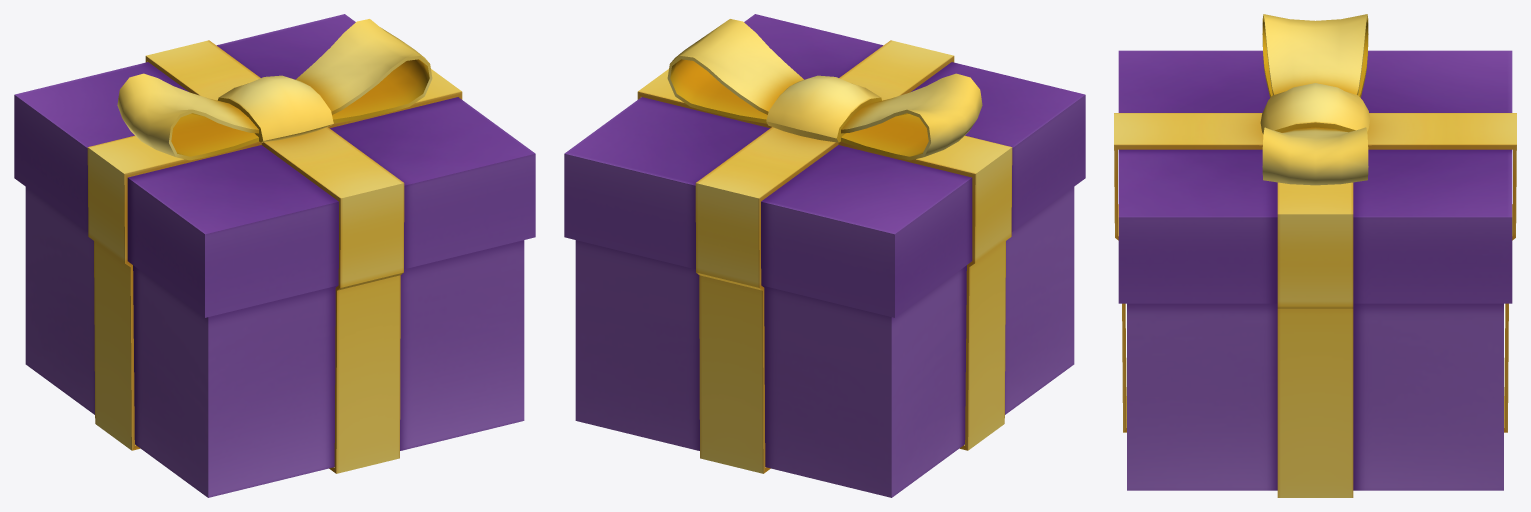
Rendered from ENV2010052.fbx.
The picture shows the model from 3 angles, left to right: view 1: azimuth 30°, elevation 25°; view 2: azimuth 150°, elevation 25°; view 3: azimuth 270°, elevation 25°; orthographic projection. The views are drawn at different scales.
Visible parts, largest first — view 1: smENV2010052; view 2: smENV2010052; view 3: smENV2010052.
Boxes of the visible parts, x1=… form: smENV2010052: x1=14, y1=14, x2=535, y2=497; smENV2010052: x1=564, y1=14, x2=1085, y2=497; smENV2010052: x1=1114, y1=14, x2=1516, y2=497.
Bounding box in the file's own units: 20.56 × 19.33 × 20.56.
1 material, 1 textured.
